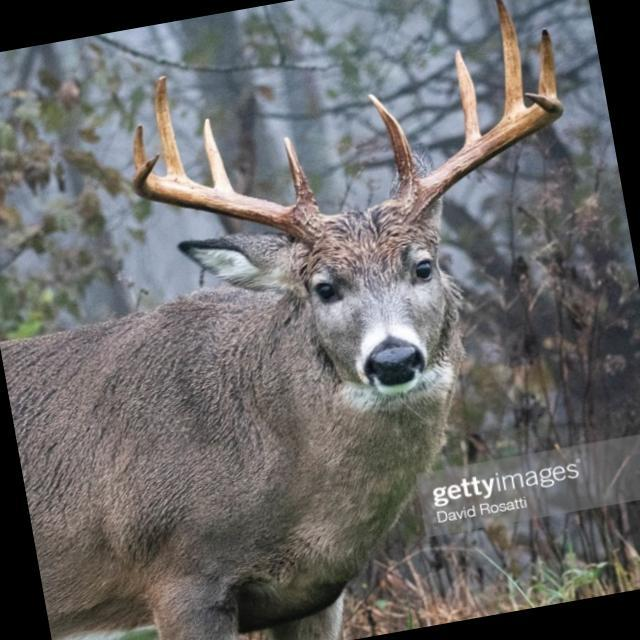L-F: (398, 93, 564, 218)
L-G1: (369, 93, 419, 189)
L-G2: (454, 48, 481, 147)
L-G3: (495, 0, 528, 122)
L-G4: (538, 27, 559, 98)
R-F: (135, 154, 320, 241)
R-G1: (282, 134, 316, 204)
R-G2: (202, 116, 234, 191)
R-G3: (153, 74, 186, 175)
